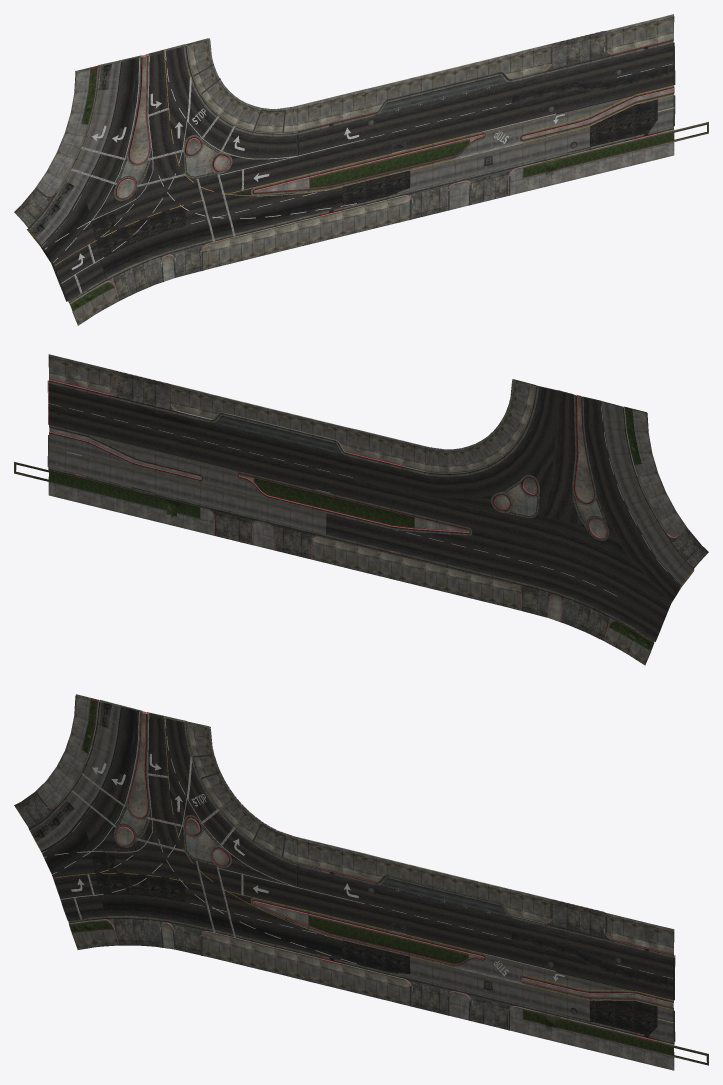
3 views of the same model, one above another, from view 1: azimuth 30°, elevation 25°; view 2: azimuth 150°, elevation 25°; view 3: azimuth 330°, elevation 25° (orthographic).
Parts seen in each view (by area): view 1: sc1_rd_r1_03; view 2: sc1_rd_r1_03; view 3: sc1_rd_r1_03.
Part boxes in pixels (x1,y1,x2,y2): sc1_rd_r1_03: (14,14,708,325); sc1_rd_r1_03: (14,354,708,665); sc1_rd_r1_03: (14,694,708,1070).
Bounding box in the file's own units: 18541 × 6508 × 93.6.
